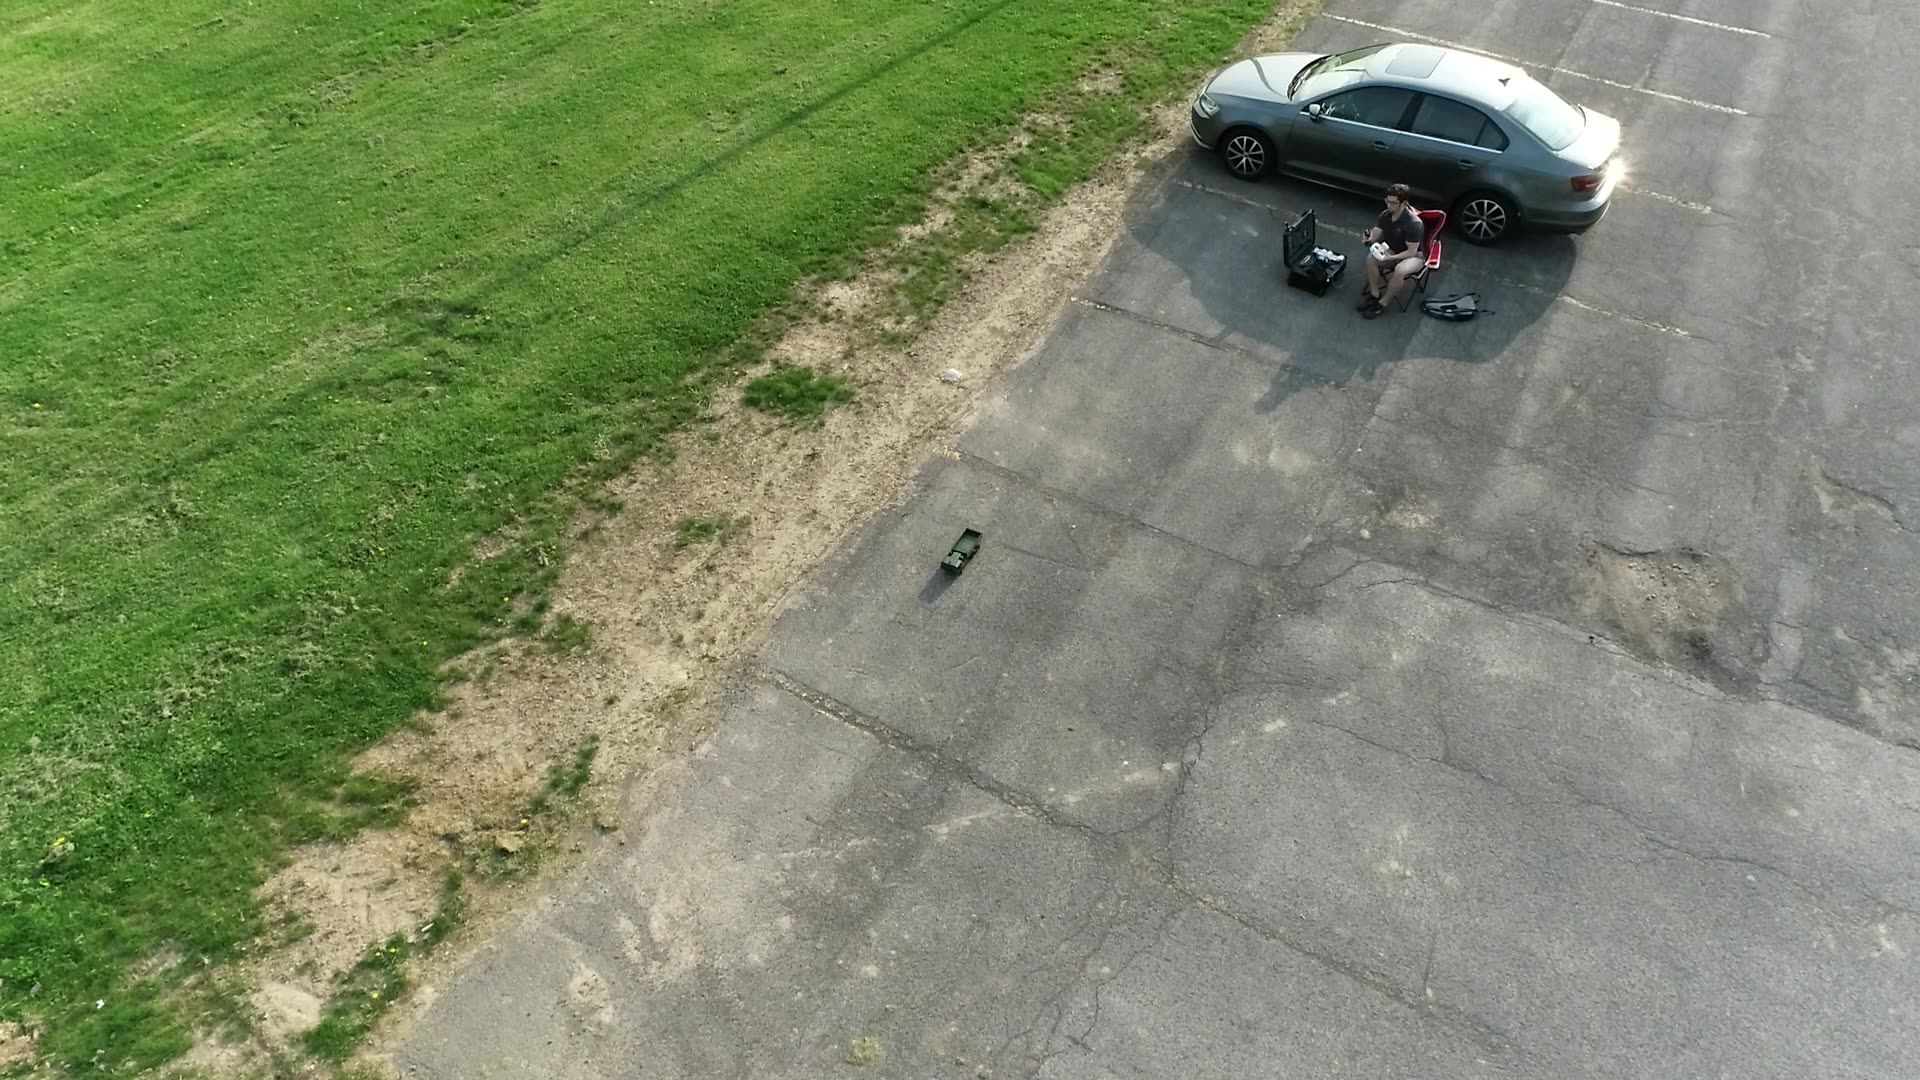transporter9: (938, 525, 984, 579)
